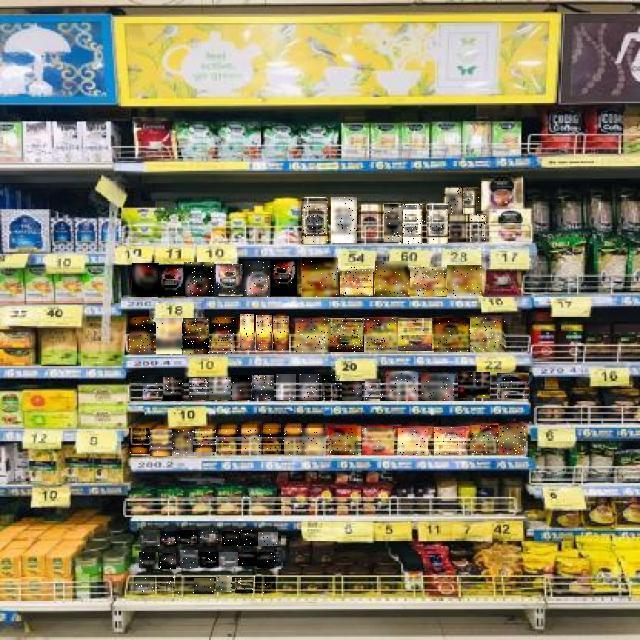Coffee: (302, 258, 338, 297), (470, 318, 506, 352), (435, 319, 471, 353), (328, 319, 364, 353), (331, 197, 357, 243), (303, 198, 329, 244), (376, 262, 410, 296), (365, 319, 399, 353), (448, 266, 484, 298), (399, 318, 433, 351), (296, 319, 330, 352), (411, 267, 447, 296), (184, 262, 214, 296), (340, 266, 374, 296), (271, 261, 297, 297), (244, 261, 270, 297), (210, 318, 236, 354), (130, 318, 156, 354), (156, 318, 182, 354), (183, 318, 209, 354), (214, 264, 243, 296), (132, 263, 159, 297), (158, 264, 185, 298), (434, 427, 466, 455), (387, 372, 419, 400), (404, 204, 426, 244), (363, 428, 395, 455), (421, 374, 454, 400), (427, 204, 448, 244), (458, 373, 490, 399), (497, 373, 529, 399), (398, 428, 428, 455), (330, 428, 360, 455), (470, 425, 498, 453), (500, 426, 526, 454), (384, 204, 402, 242), (302, 428, 326, 455), (193, 430, 216, 456), (262, 429, 284, 455), (216, 429, 238, 455), (172, 430, 194, 456), (150, 430, 172, 456), (257, 315, 273, 350), (273, 316, 289, 350), (252, 376, 274, 400), (164, 377, 186, 401), (129, 429, 149, 455), (299, 374, 319, 400), (276, 374, 296, 400), (209, 377, 231, 400), (240, 315, 254, 351), (284, 428, 302, 455), (143, 377, 163, 401), (232, 375, 251, 400), (242, 428, 260, 454), (322, 375, 340, 400), (451, 215, 467, 243), (471, 215, 487, 243), (189, 378, 209, 400), (446, 188, 462, 214), (464, 188, 480, 214), (366, 379, 384, 401), (343, 382, 363, 400), (255, 576, 276, 593), (180, 550, 198, 568), (155, 577, 174, 594), (140, 531, 160, 547), (258, 552, 278, 568), (194, 578, 214, 594), (239, 531, 258, 547), (219, 552, 238, 568), (139, 552, 158, 568), (135, 578, 154, 594), (175, 578, 194, 594), (160, 531, 180, 546), (200, 552, 218, 568), (259, 532, 279, 546), (159, 553, 176, 569), (222, 531, 240, 546), (235, 578, 253, 593), (238, 552, 257, 566), (216, 577, 232, 593), (180, 531, 198, 545), (200, 532, 218, 546)
